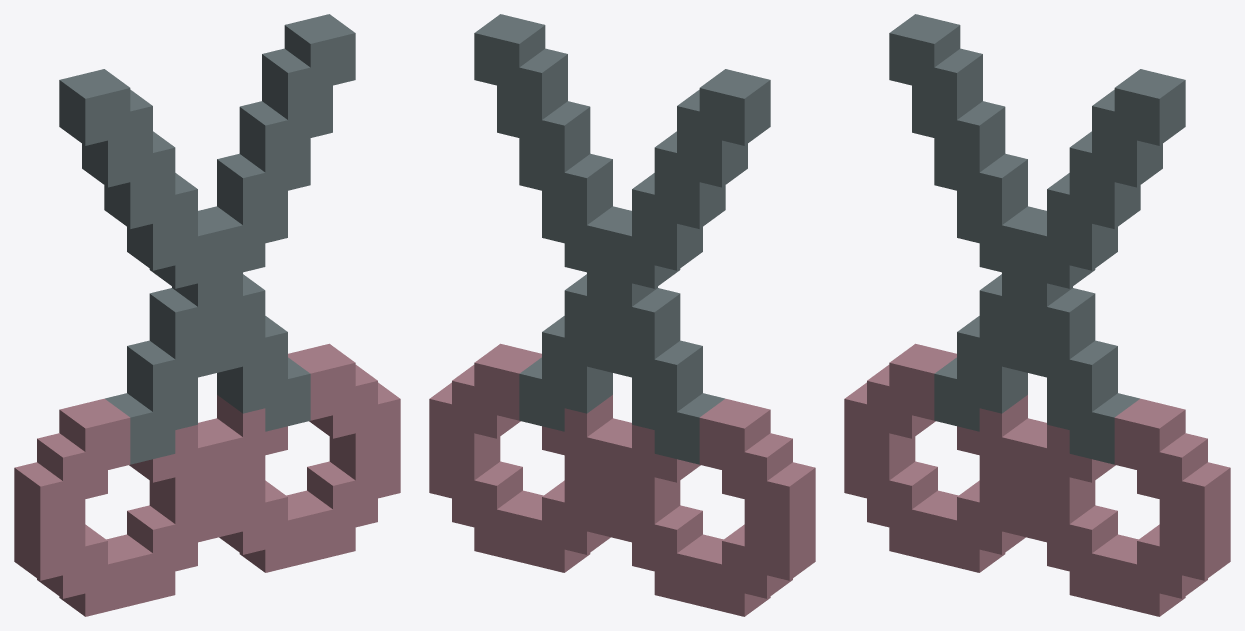
File: fashion-06.glb
The picture shows the model from 3 angles, left to right: view 1: azimuth 30°, elevation 25°; view 2: azimuth 150°, elevation 25°; view 3: azimuth 330°, elevation 25°; orthographic projection.
Visible parts, largest first — view 1: Scissors; view 2: Scissors; view 3: Scissors.
Boxes of the visible parts, x1,y1,x2,y2 form: Scissors: (14,14,400,616); Scissors: (429,14,815,616); Scissors: (844,14,1230,616).
Bounding box in the file's own units: 1.28 × 1.76 × 0.16.
